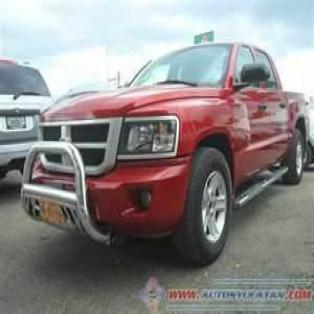Auto: (22, 43, 310, 261)
